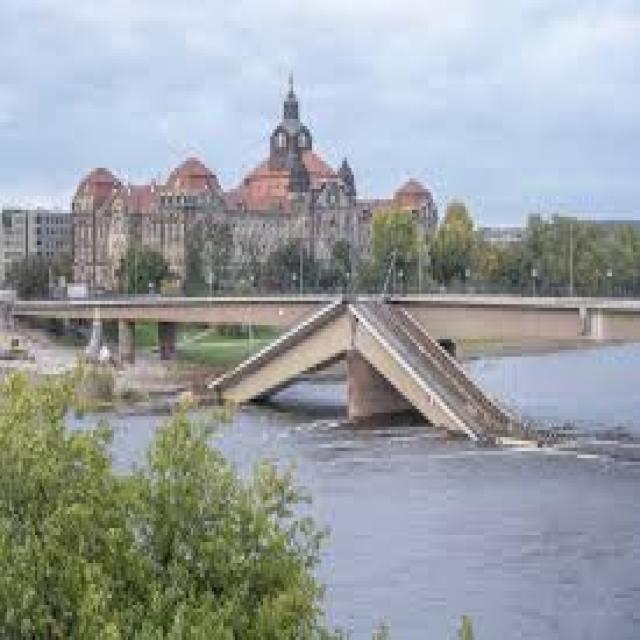bridge collapse: (87, 163, 598, 616)
